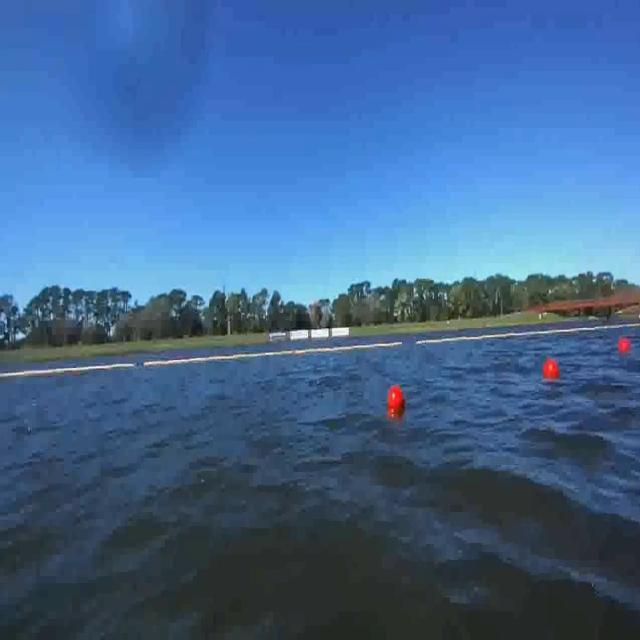red-buoy: (544, 357, 561, 380), (386, 383, 401, 408), (619, 338, 632, 356)
